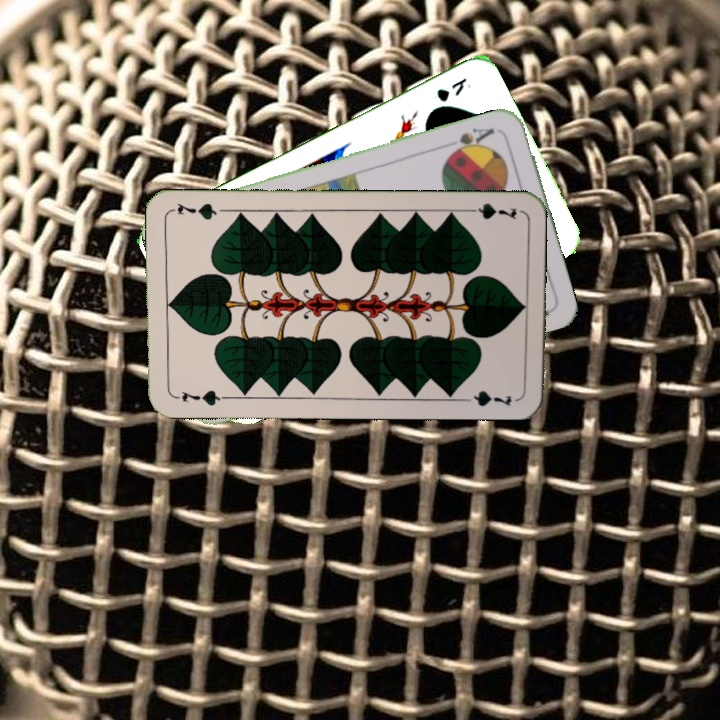G7: (461, 199, 520, 222), (170, 386, 229, 409)
GK: (432, 73, 469, 105)
SA: (446, 123, 497, 158)
